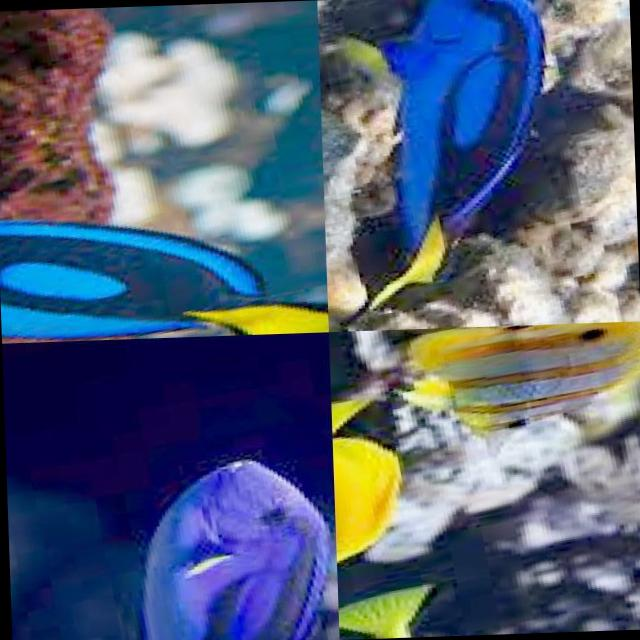BlueTang: (315, 0, 553, 285), (0, 207, 323, 343), (137, 451, 338, 640), (336, 578, 442, 640)
ButterflyFish: (406, 321, 640, 442)
YellowTang: (330, 397, 404, 562)
